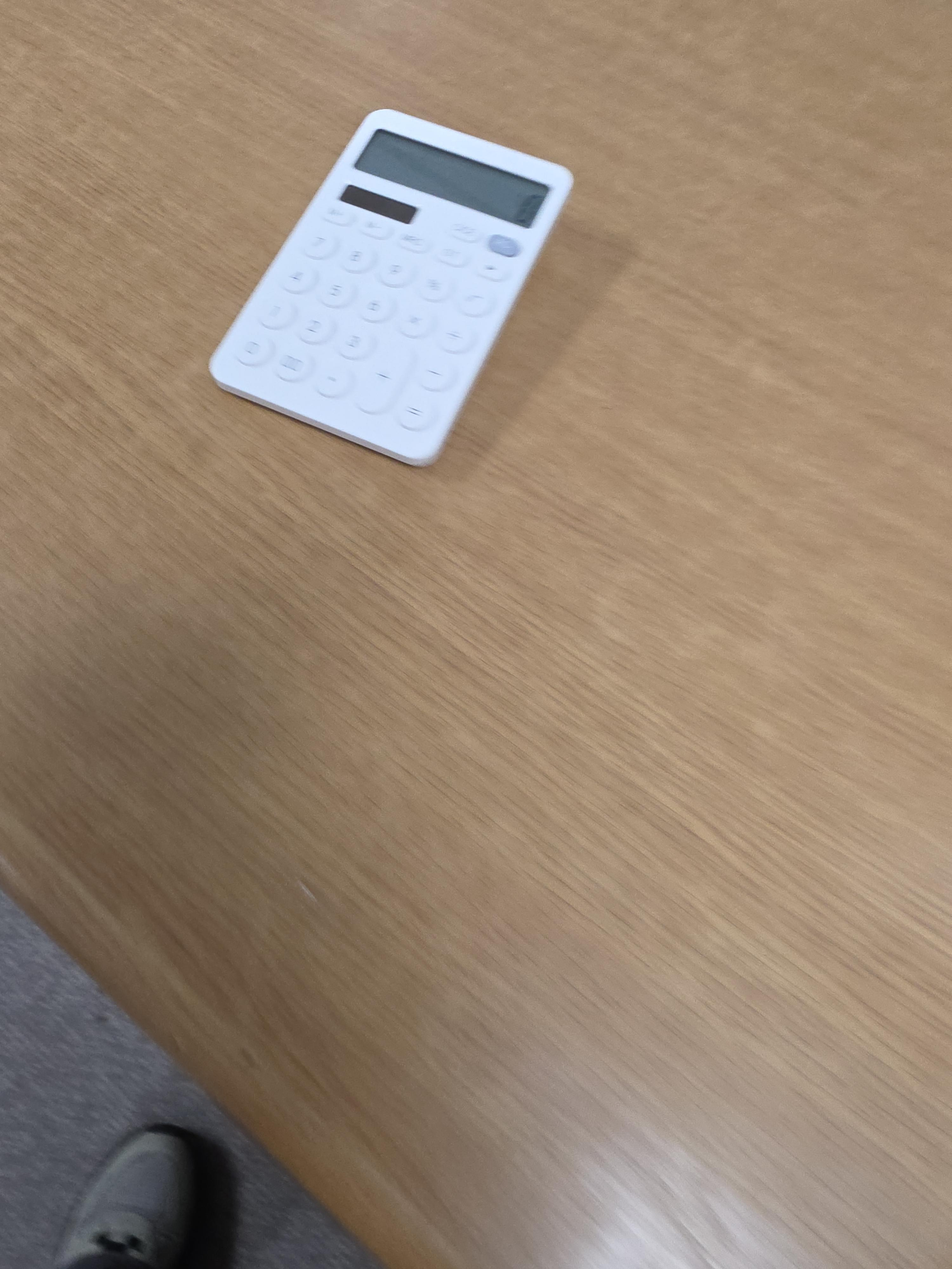calculator: (209, 107, 574, 468)
